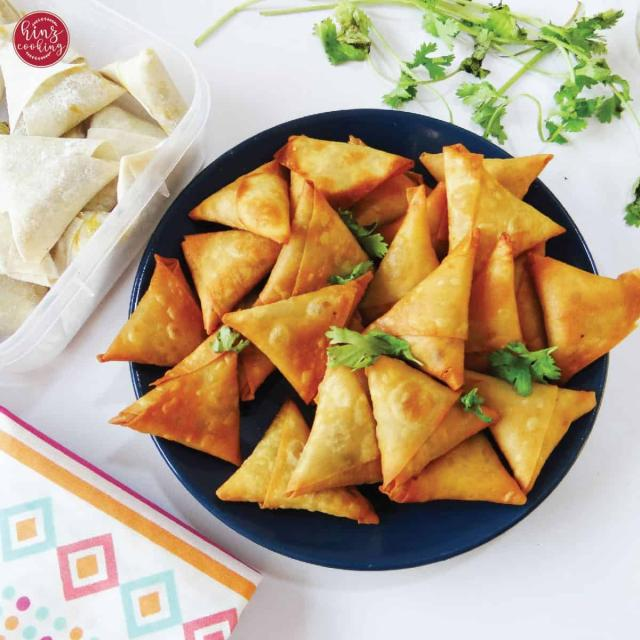SAMOSA: (216, 369, 381, 523), (223, 273, 372, 400), (369, 228, 476, 389), (111, 333, 240, 463), (530, 253, 639, 380), (366, 357, 474, 485), (260, 180, 367, 303), (98, 258, 207, 366), (469, 373, 558, 493), (361, 185, 439, 318), (182, 230, 281, 334), (476, 159, 562, 269), (281, 138, 413, 207), (401, 434, 525, 504), (217, 161, 290, 244), (198, 198, 229, 223)
